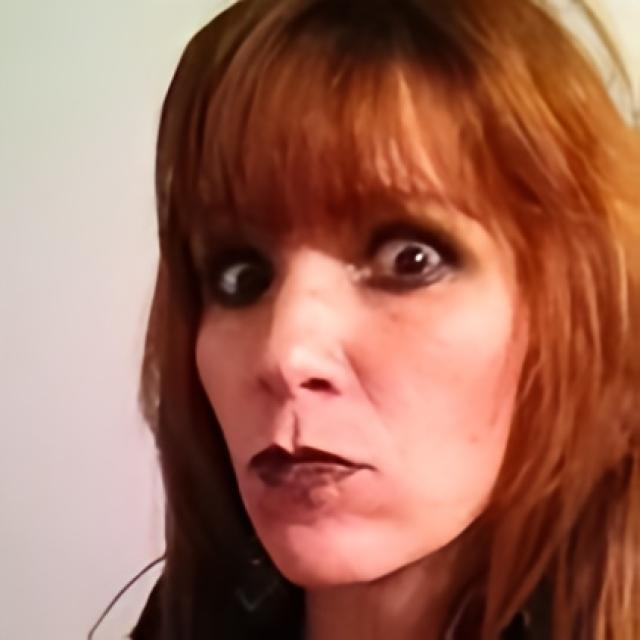fear: (190, 56, 532, 584)
